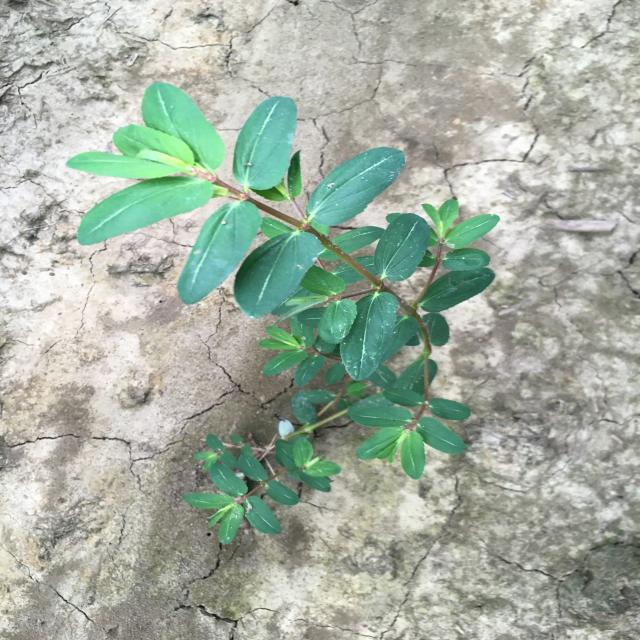SpottedSpurge: (66, 81, 500, 544)
